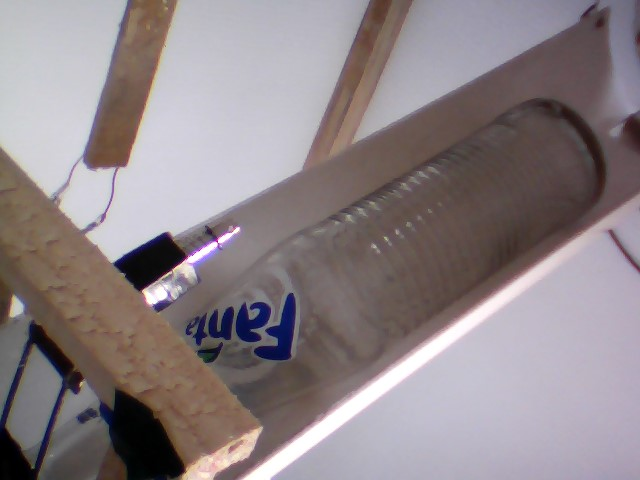vidrio: (178, 89, 610, 409)
